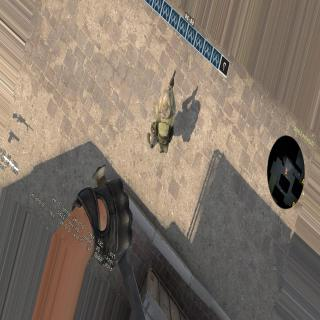CT-Body: (152, 86, 178, 152)
CT-Head: (159, 90, 175, 119)
